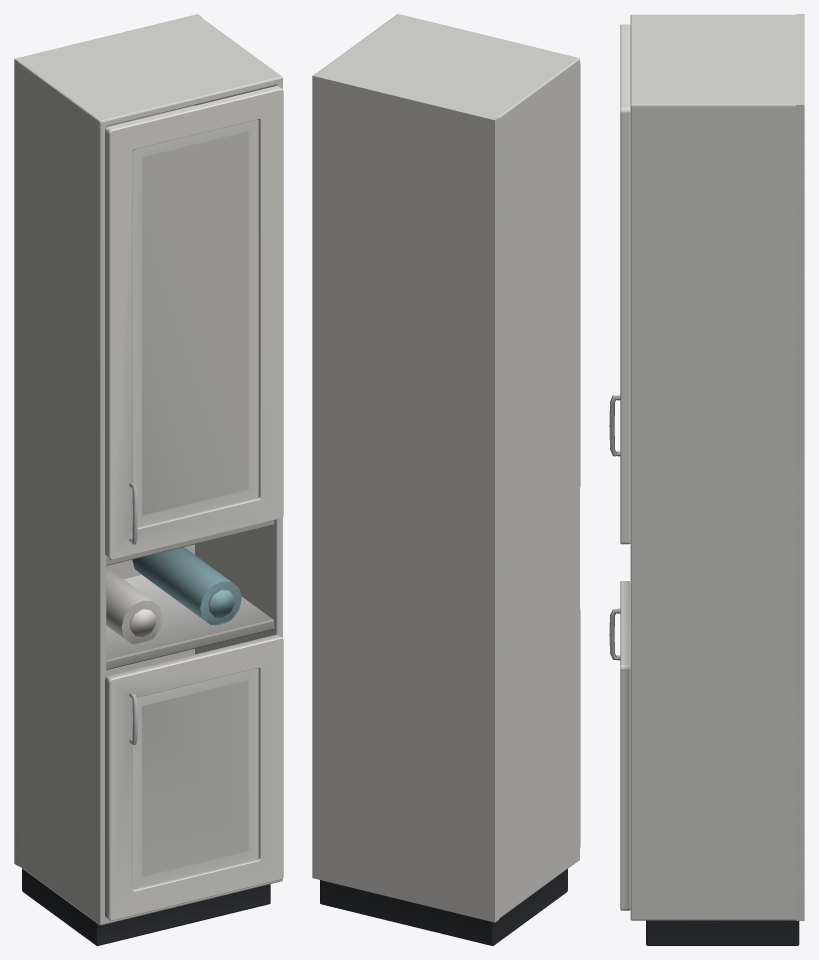
Rendered from bathCabinetTall.glb.
3 renders of one model, left to right at view 1: azimuth 30°, elevation 25°; view 2: azimuth 150°, elevation 25°; view 3: azimuth 270°, elevation 25°, orthographic.
Visible parts, largest first — view 1: body, door; view 2: body; view 3: body, door.
Part boxes in pixels (x1=…): body: x1=14, y1=14, x2=283, y2=945; door: x1=105, y1=86, x2=283, y2=559; body: x1=312, y1=14, x2=580, y2=945; body: x1=609, y1=14, x2=804, y2=945; door: x1=609, y1=24, x2=630, y2=544.
Bounding box in the file's own units: 0.42 × 1.82 × 0.3811.
